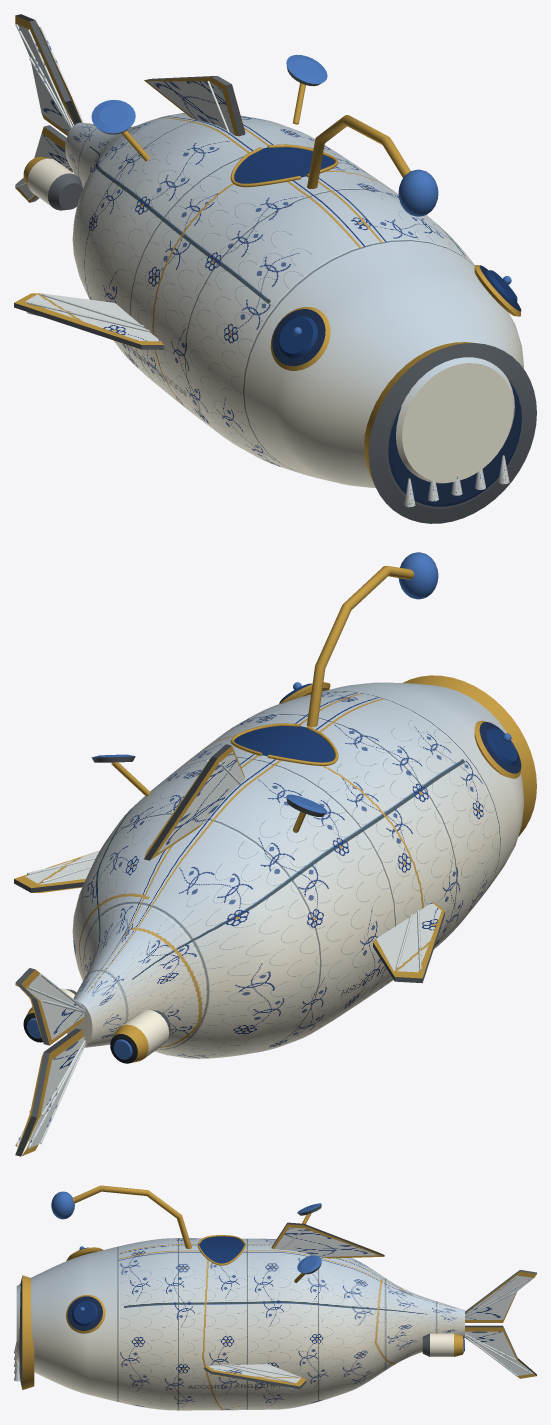
3 views of the same model, one above another, from view 1: azimuth 30°, elevation 25°; view 2: azimuth 150°, elevation 25°; view 3: azimuth 270°, elevation 25° (orthographic). The views are drawn at different scales.
Visible parts, largest first — view 1: anglerfish_hull; view 2: anglerfish_hull; view 3: anglerfish_hull.
Part boxes in pixels (x1,y1,x2,y2): anglerfish_hull: (14, 14, 536, 523); anglerfish_hull: (14, 552, 536, 1156); anglerfish_hull: (14, 1185, 536, 1410).
Size of the model in its own units: 9.08 by 7.72 by 17.
1 material, 1 textured.
